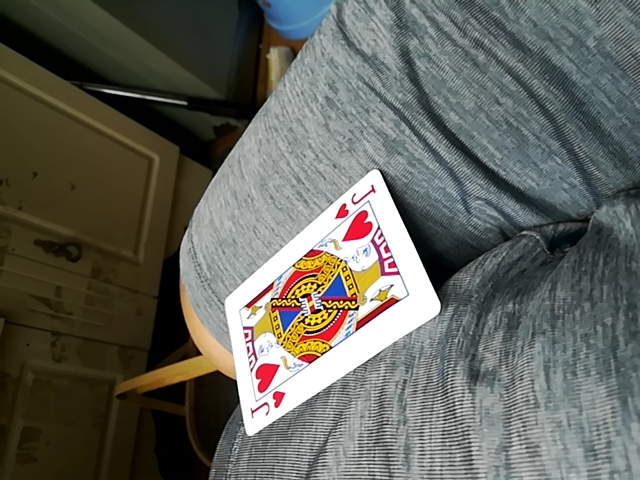hx j: (221, 170, 438, 435)
